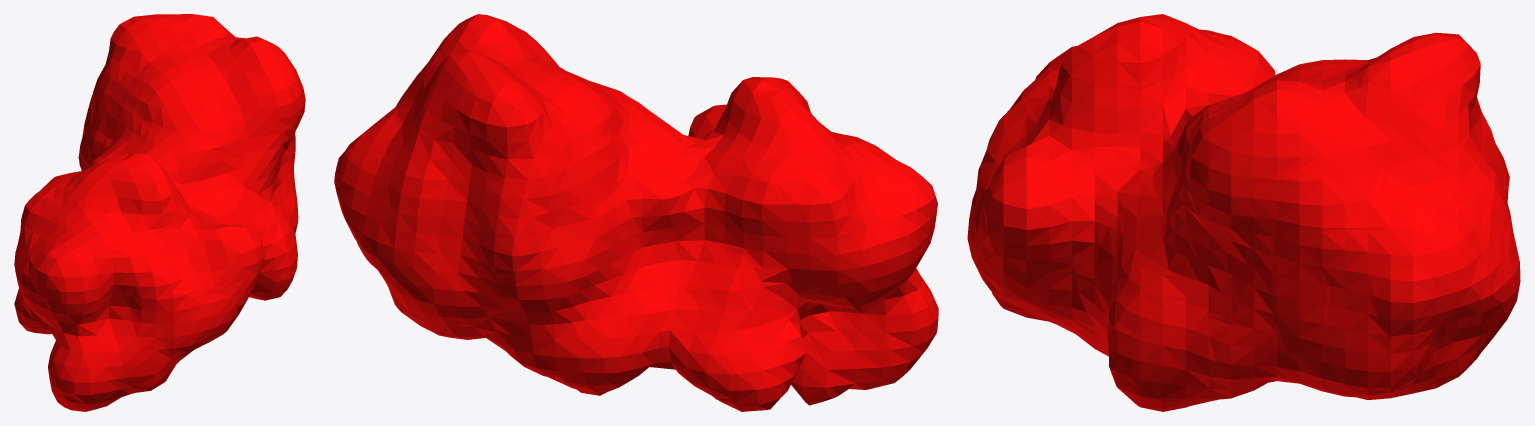
Rendered from ribF_coarse.dae.
3 renders of one model, left to right at view 1: azimuth 30°, elevation 25°; view 2: azimuth 150°, elevation 25°; view 3: azimuth 270°, elevation 25°, orthographic. The views are drawn at different scales.
Visible parts, largest first — view 1: ribF; view 2: ribF; view 3: ribF.
Boxes of the visible parts, x1,y1,x2,y2 form: ribF: [14, 14, 305, 411]; ribF: [334, 14, 938, 411]; ribF: [967, 14, 1520, 411].
Bounding box in the file's own units: 67.62 × 51.04 × 59.23.
